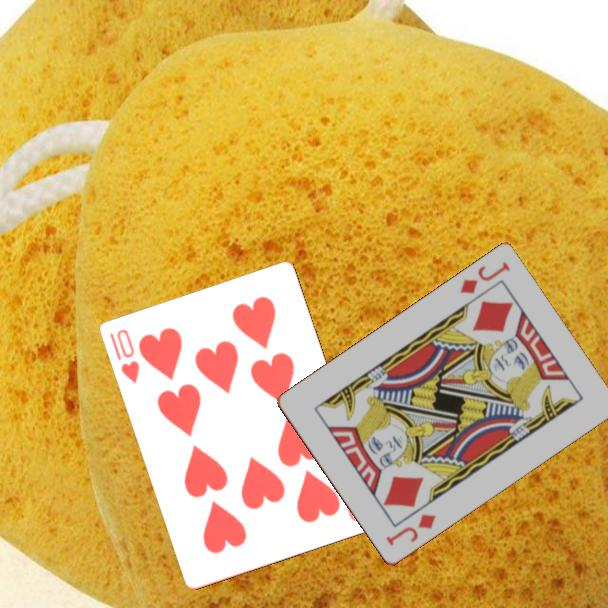d11: (382, 511, 439, 549), (456, 259, 513, 297)
h10: (107, 326, 143, 386)
